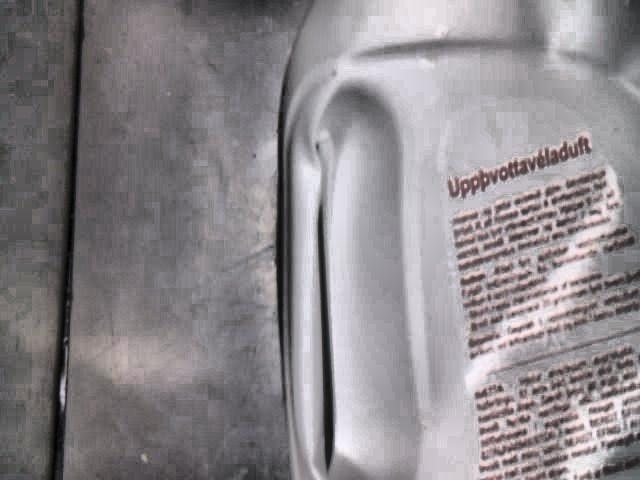Plastic: (259, 0, 640, 480)
